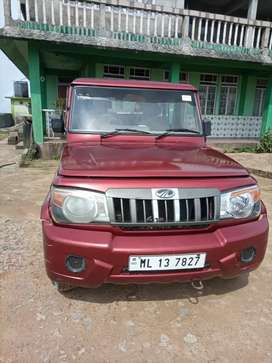ML137827: (128, 252, 206, 272)
